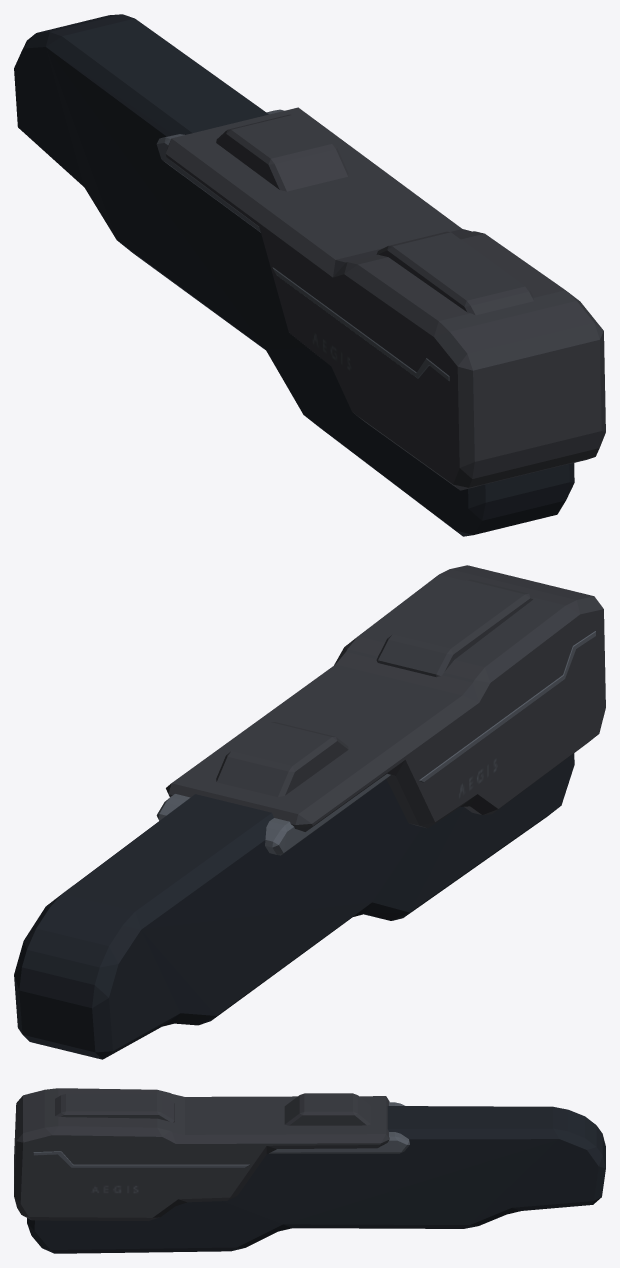
The model's file is upper_shell.obj.
The picture shows the model from 3 angles, top to bottom: view 1: azimuth 30°, elevation 25°; view 2: azimuth 150°, elevation 25°; view 3: azimuth 270°, elevation 25°; orthographic projection. The views are drawn at different scales.
Parts seen in each view (by area): view 1: upper_shell; view 2: upper_shell; view 3: upper_shell.
Boxes of the visible parts, x1,y1,x2,y2 form: upper_shell: [14, 14, 605, 536]; upper_shell: [14, 565, 605, 1059]; upper_shell: [14, 1088, 605, 1253].
Bounding box in the file's own units: 0.0513 × 0.0751 × 0.2907.
1 material, 1 textured.
